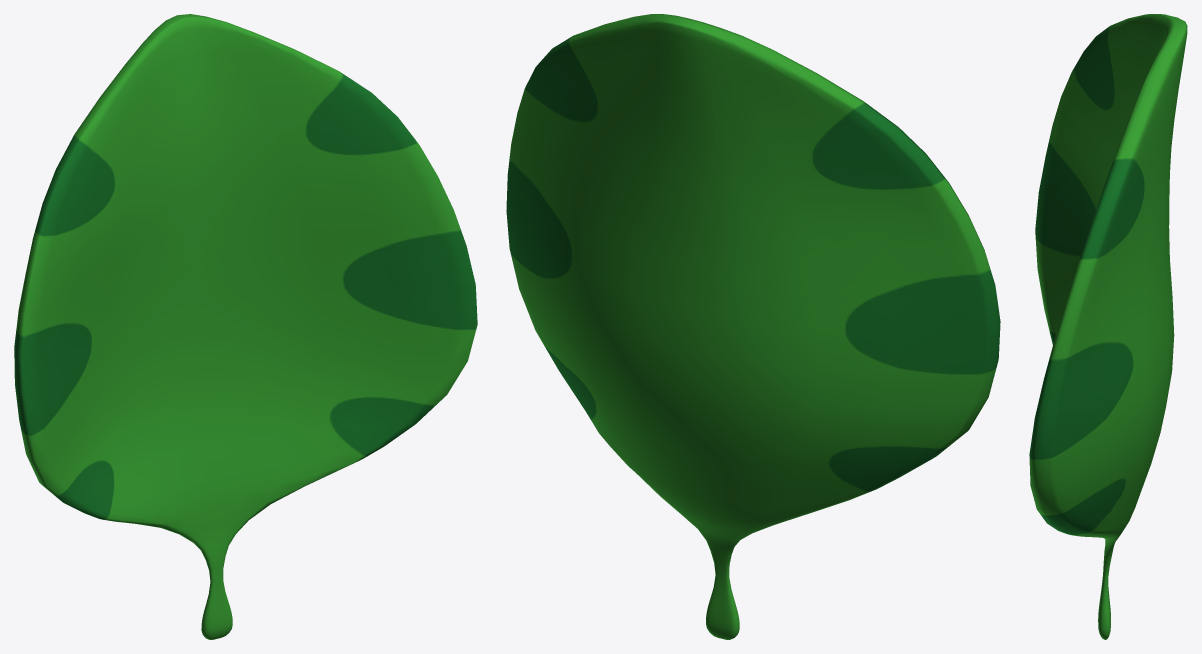
Rendered from LeafWeapon.fbx.
3 views of the same model, side by side, from view 1: azimuth 30°, elevation 25°; view 2: azimuth 150°, elevation 25°; view 3: azimuth 270°, elevation 25° (orthographic). The views are drawn at different scales.
Visible parts, largest first — view 1: Leaf1; view 2: Leaf1; view 3: Leaf1.
Boxes of the visible parts, <box> form: Leaf1: <box>14,14,477,639</box>; Leaf1: <box>506,14,1000,639</box>; Leaf1: <box>1029,14,1187,639</box>.
Size of the model in its own units: 2.47 by 3.1 by 0.7246.
